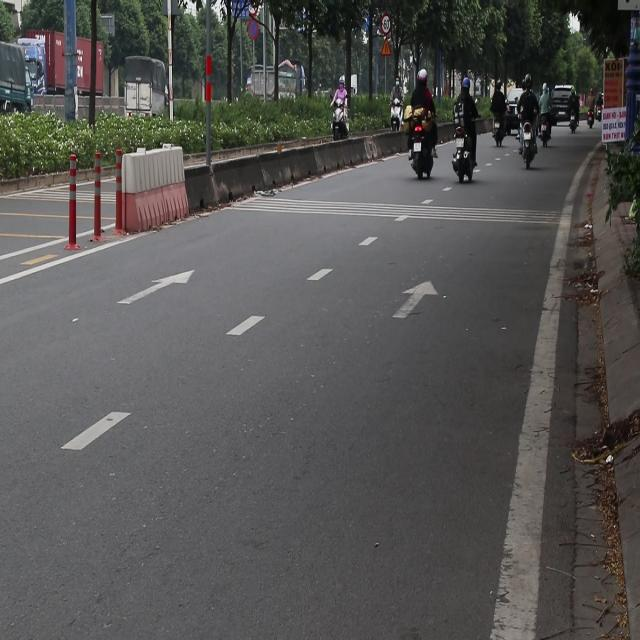car: (492, 79, 530, 131), (544, 73, 575, 124), (548, 86, 576, 126)
motorbike: (406, 114, 440, 182), (451, 127, 478, 185), (518, 119, 542, 181), (328, 97, 350, 146), (539, 109, 555, 147), (485, 119, 501, 152), (568, 107, 583, 138), (389, 103, 397, 139)
truck: (15, 17, 112, 112), (122, 44, 172, 124), (248, 62, 308, 102), (0, 47, 28, 128)
